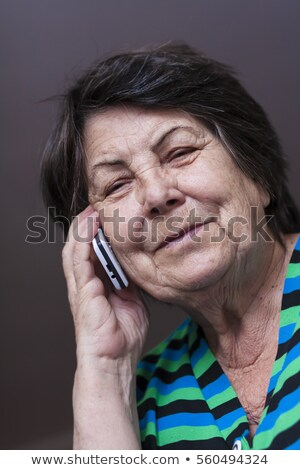phone: (77, 193, 130, 295)
talk: (60, 117, 256, 357)
